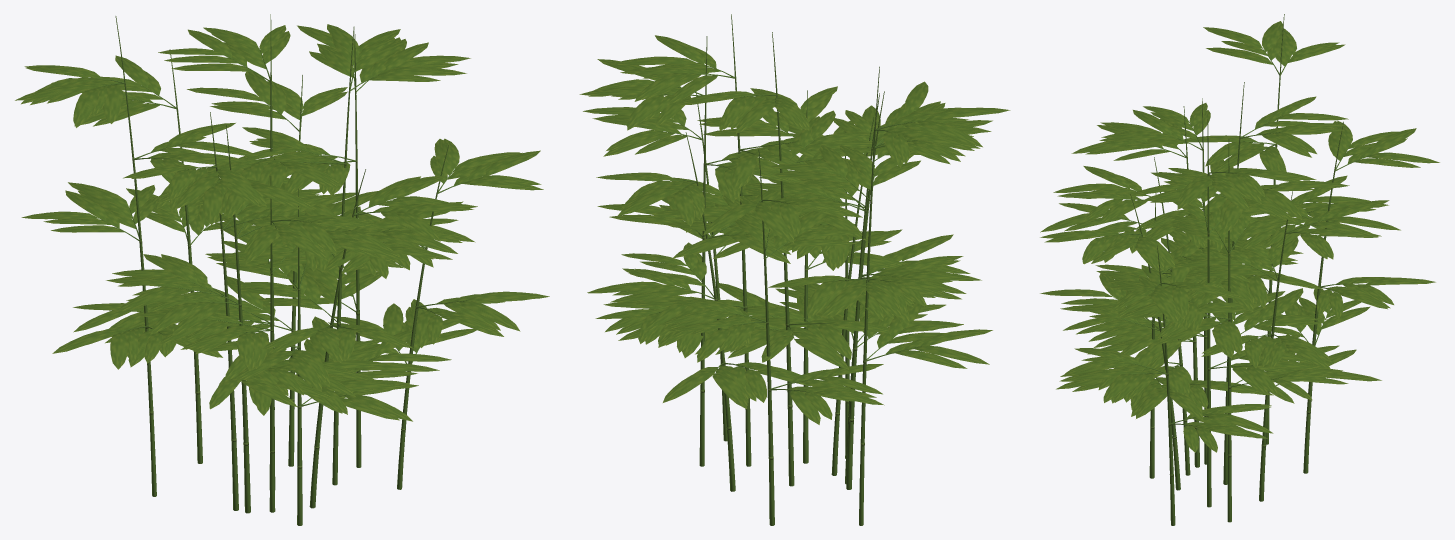
Rendered from sasa.glb.
3 renders of one model, left to right at view 1: azimuth 30°, elevation 25°; view 2: azimuth 150°, elevation 25°; view 3: azimuth 270°, elevation 25°, orthographic. The views are drawn at different scales.
Visible parts, largest first — view 1: Foliage, Stems; view 2: Foliage, Stems; view 3: Foliage, Stems.
Part boxes in pixels (box(x1,y1,x2,y2)): Foliage: box(15, 24, 549, 421); Stems: box(95, 14, 469, 525); Foliage: box(579, 35, 1010, 424); Stems: box(656, 14, 921, 525); Foliage: box(1040, 21, 1439, 452); Stems: box(1113, 14, 1371, 525).
Bounding box in the file's own units: 0.8354 × 0.8202 × 0.7135.
Materials: 2 (1 with a texture image).
